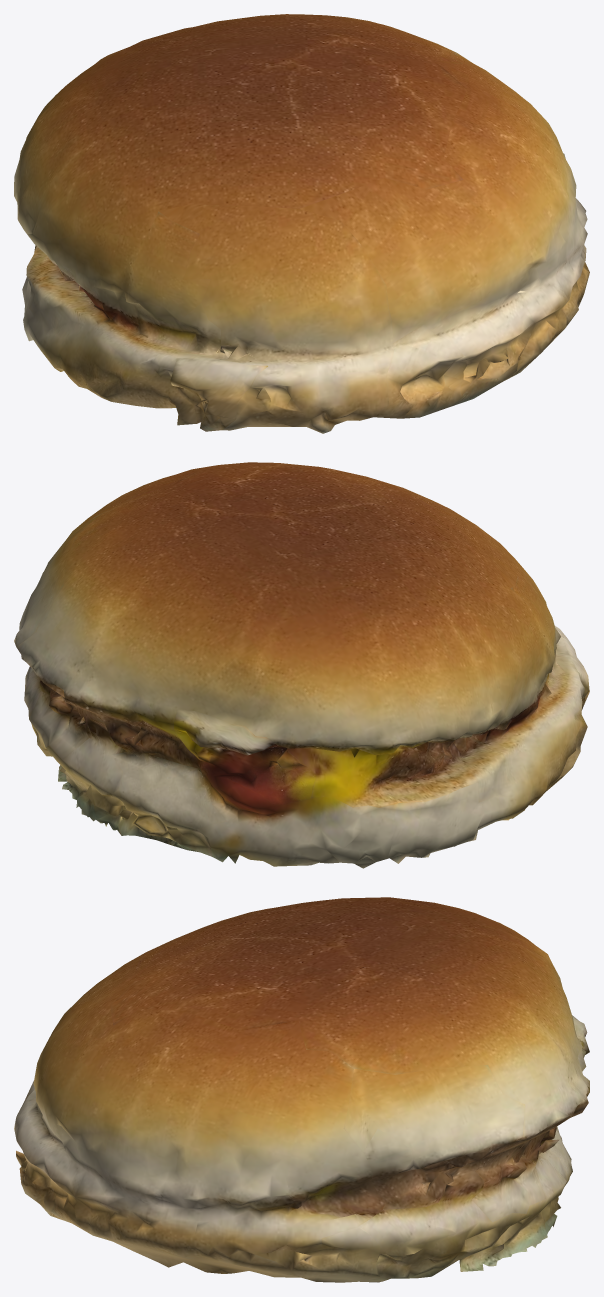
The picture shows the model from 3 angles, top to bottom: view 1: azimuth 30°, elevation 25°; view 2: azimuth 150°, elevation 25°; view 3: azimuth 270°, elevation 25°; orthographic projection.
Visible parts, largest first — view 1: Mesh_0; view 2: Mesh_0; view 3: Mesh_0.
Boxes of the visible parts, x1=… form: Mesh_0: x1=14, y1=14, x2=589, y2=433; Mesh_0: x1=14, y1=462, x2=589, y2=868; Mesh_0: x1=14, y1=897, x2=589, y2=1282.
Bounding box in the file's own units: 2.58 × 1.34 × 2.65.
Materials: 1 (1 with a texture image).
